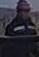helmet: (15, 0, 32, 13)
vest: (5, 18, 37, 38)
